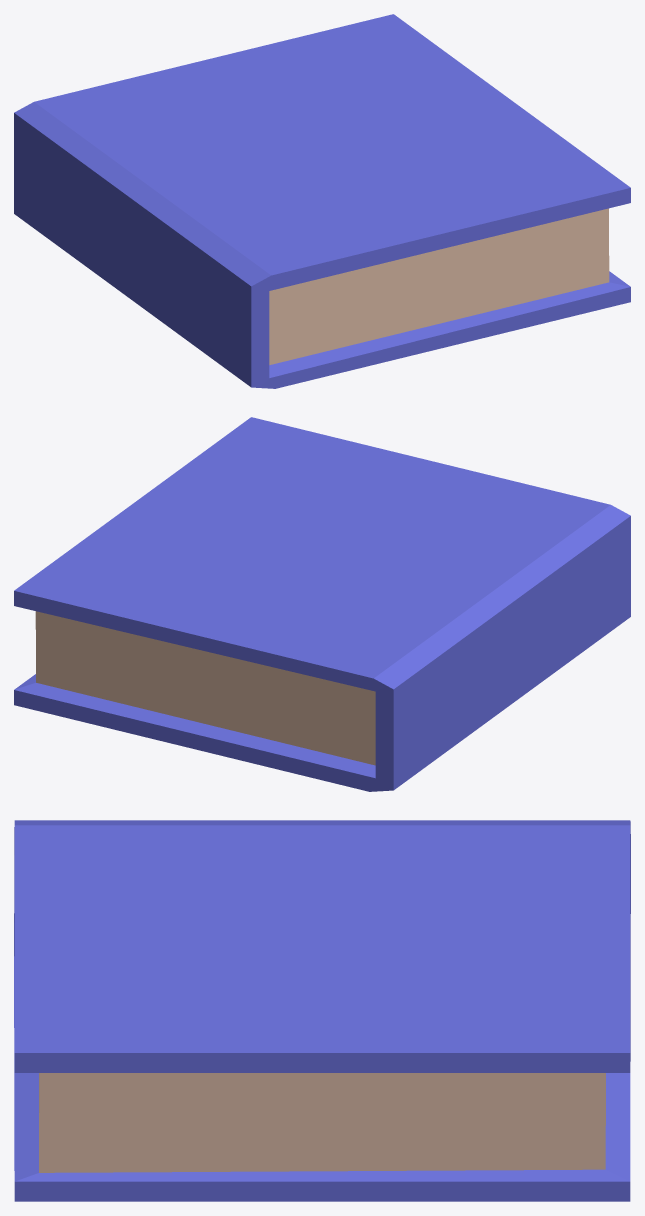
3 views of the same model, one above another, from view 1: azimuth 30°, elevation 25°; view 2: azimuth 150°, elevation 25°; view 3: azimuth 270°, elevation 25° (orthographic). The views are drawn at different scales.
Visible parts, largest first — view 1: Cube.012; view 2: Cube.012; view 3: Cube.012.
Boxes of the visible parts, box(x1,y1,x2,y2) form: Cube.012: box(14, 14, 630, 388); Cube.012: box(14, 417, 630, 791); Cube.012: box(14, 820, 630, 1201).
Bounding box in the file's own units: 23.83 × 6.86 × 25.84.
